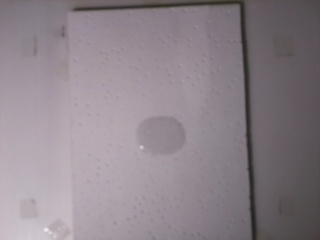Water_detected: (141, 124, 190, 163)
